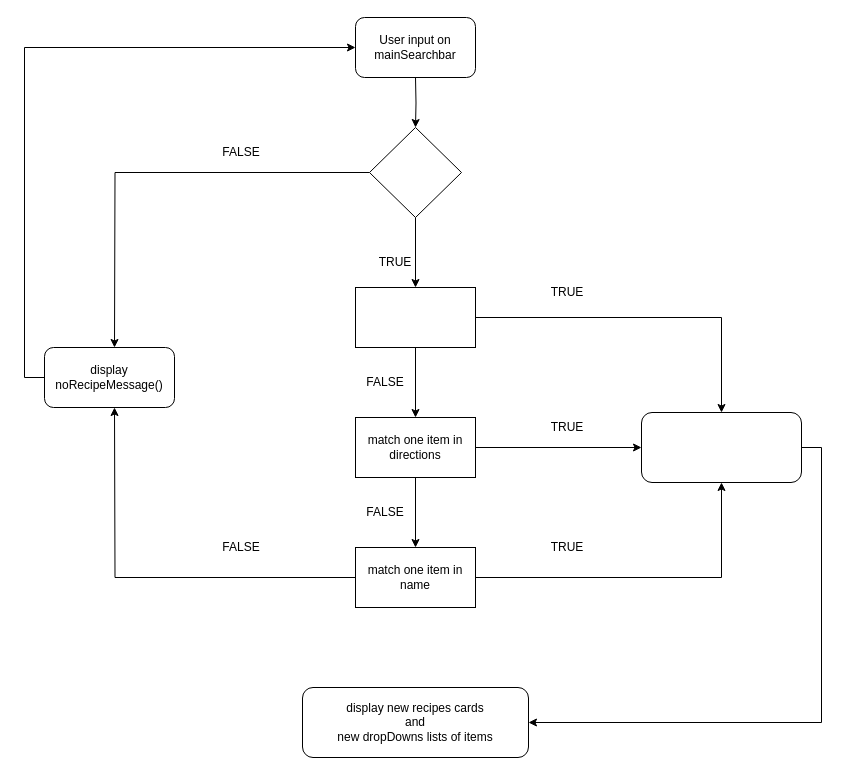
The diagram is 847 pixels wide and 775 high, and some of its shapes have lost their labels. Each missing label, with the box of its shape:
match one item in ingredientsList: (354, 286, 476, 348)
REGEX validation: (368, 126, 462, 218)
update state object main and return a new recipe array: (640, 412, 802, 482)
